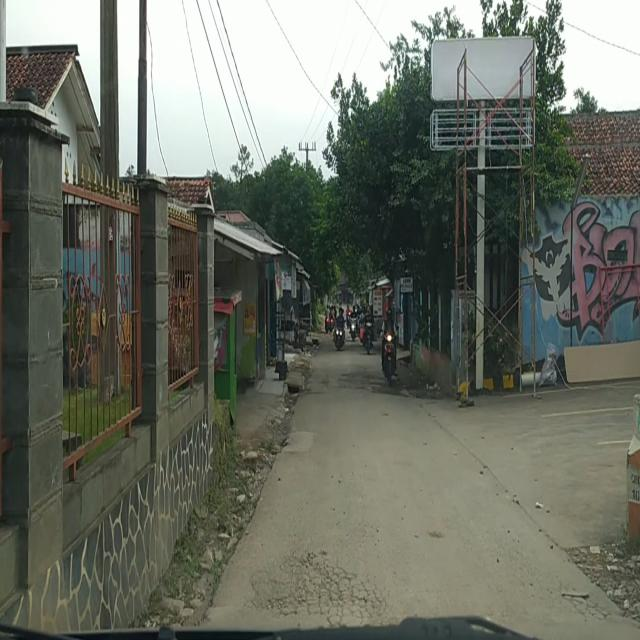Drain Hole: (250, 555, 376, 622)
